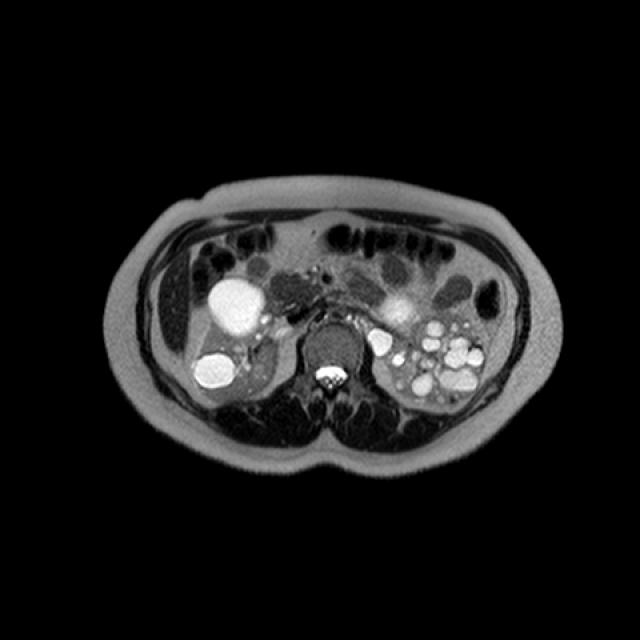sag: (189, 275, 281, 403)
sol: (371, 294, 489, 407)
